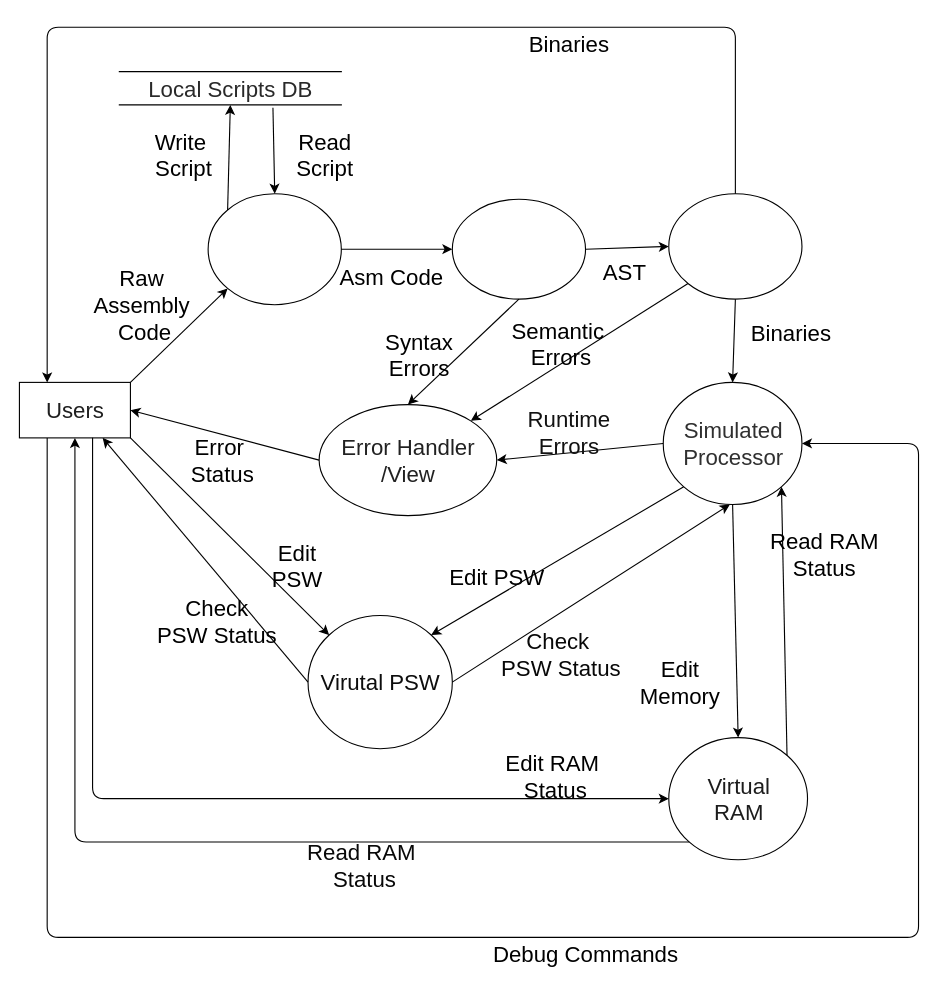
The diagram is 947 pixels wide and 990 high, and some of its shapes have lost their labels. The shapes that lost their labels are listed below. From the top down, each one's box as (x1, y1, x2, y2) in pixels, then its label:
(207, 193, 341, 305): Text Editor
(451, 198, 586, 299): Parser
(668, 193, 802, 299): Assembler
